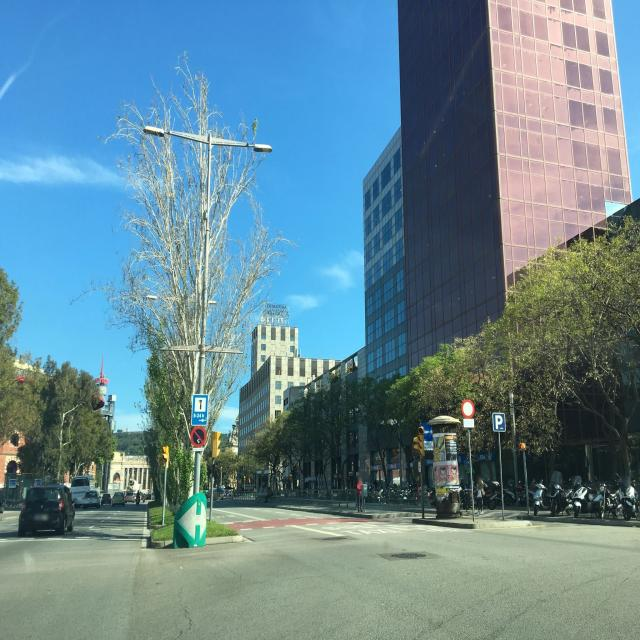forb_stopping: (191, 425, 207, 450)
